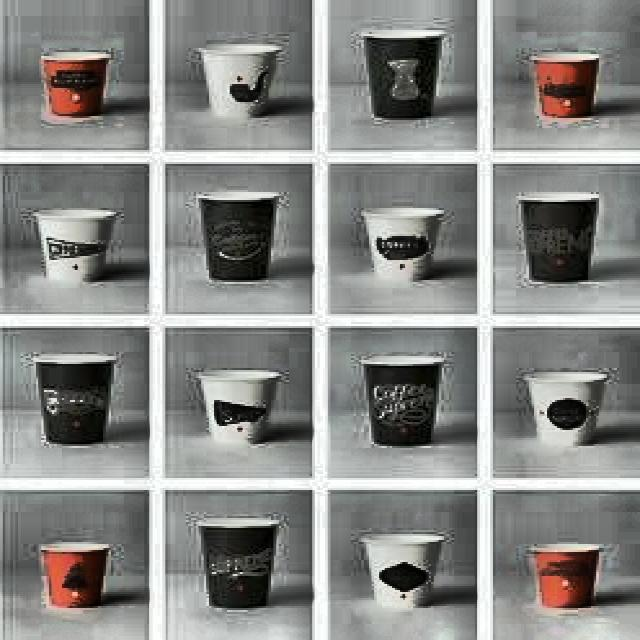Cup: (358, 23, 466, 138), (31, 352, 130, 466), (187, 39, 299, 122), (199, 514, 286, 618), (520, 186, 610, 284), (20, 198, 115, 289), (27, 532, 120, 623), (360, 529, 455, 618), (363, 364, 452, 456), (198, 184, 276, 288), (362, 202, 454, 290), (194, 362, 282, 454), (508, 372, 622, 442), (31, 39, 114, 129), (524, 538, 614, 618), (529, 47, 607, 130)
